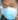with_mask: (1, 2, 18, 20)
